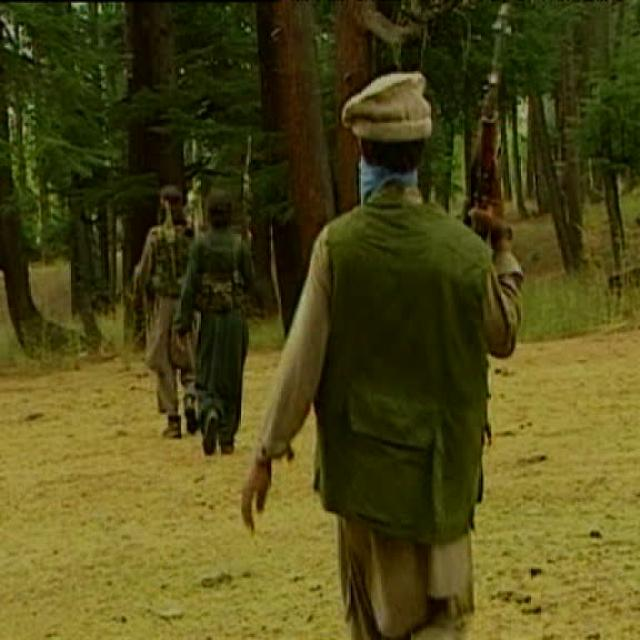Forest: (0, 0, 640, 640)
Militant: (255, 72, 551, 640), (111, 171, 211, 446), (185, 190, 269, 464)
